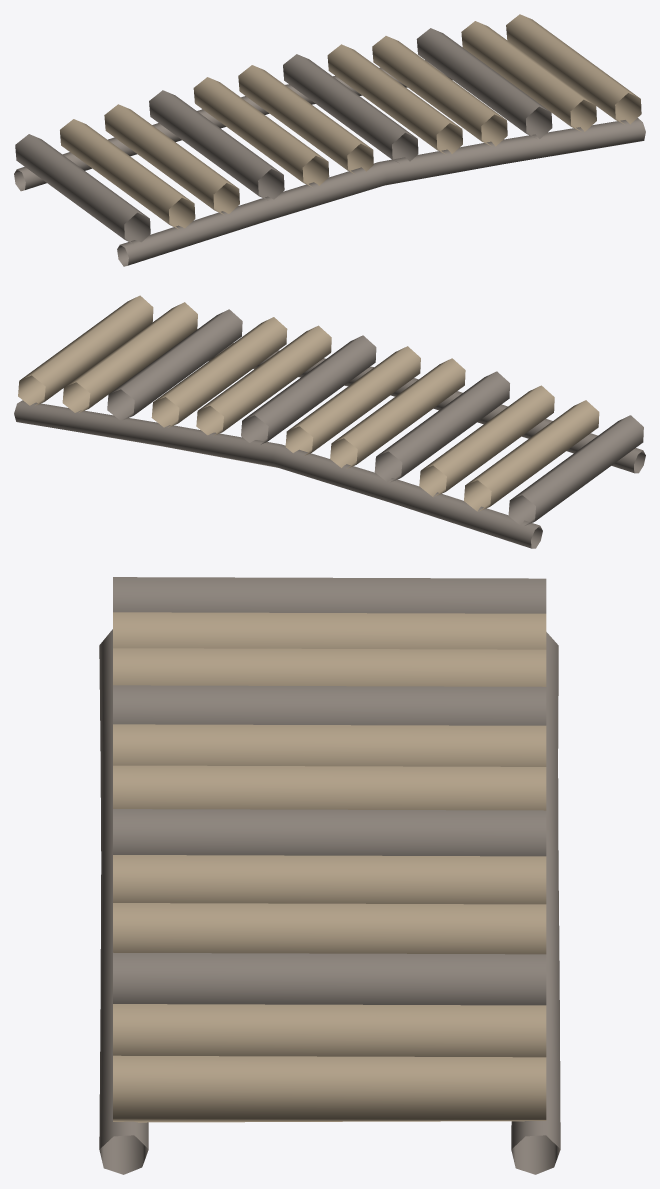
The model's file is footbridge.glb.
3 views of the same model, one above another, from view 1: azimuth 30°, elevation 25°; view 2: azimuth 150°, elevation 25°; view 3: azimuth 270°, elevation 25° (orthographic). The views are drawn at different scales.
Visible parts, largest first — view 1: footbridge; view 2: footbridge; view 3: footbridge.
Part boxes in pixels (x1,y1,x2,y2): footbridge: [14, 14, 645, 266]; footbridge: [14, 295, 645, 548]; footbridge: [99, 577, 560, 1174].
Bounding box in the file's own units: 4.42 × 0.5545 × 1.7.
